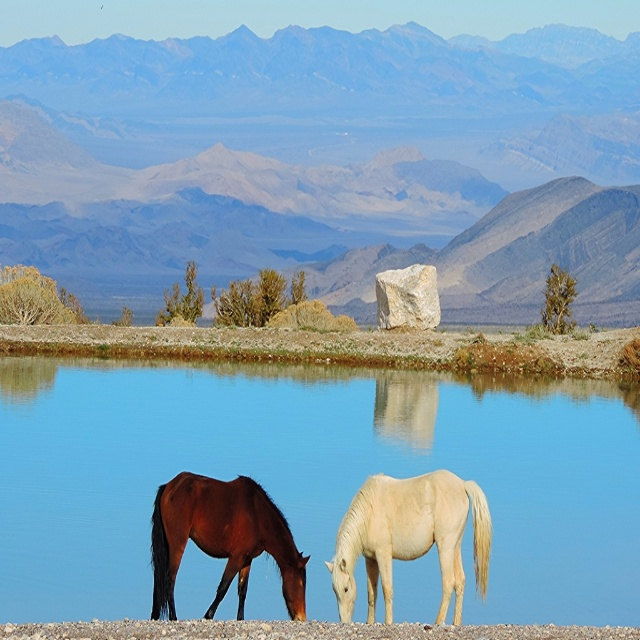Horse: (322, 469, 493, 630), (149, 470, 310, 625)
